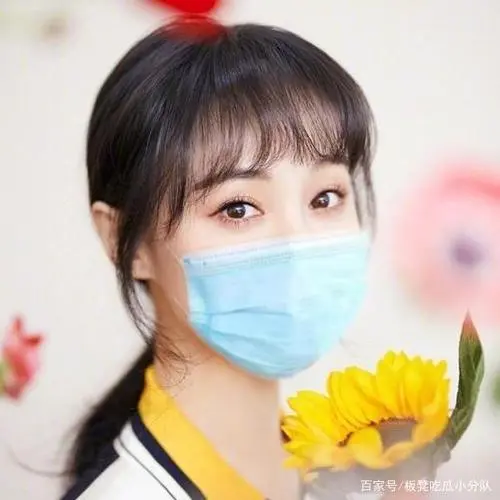withmask: (83, 19, 388, 385)
